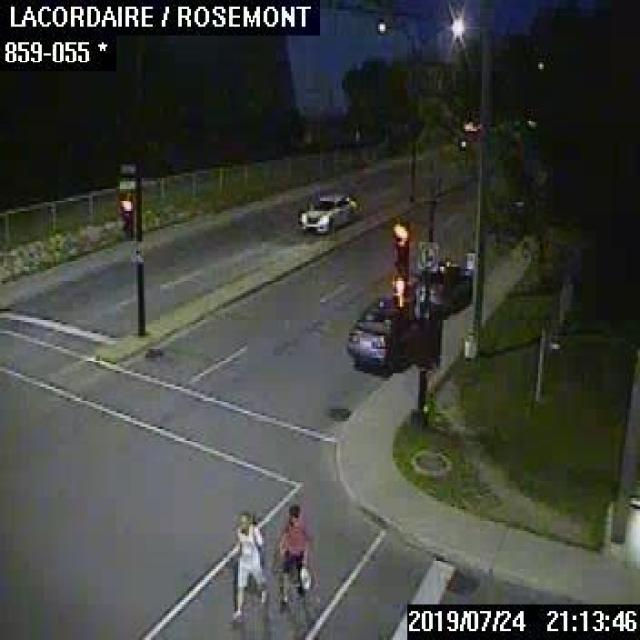pedestrian: (230, 510, 268, 618), (276, 502, 312, 608)
vehicle: (346, 299, 424, 369), (413, 260, 471, 310), (300, 193, 355, 231)
